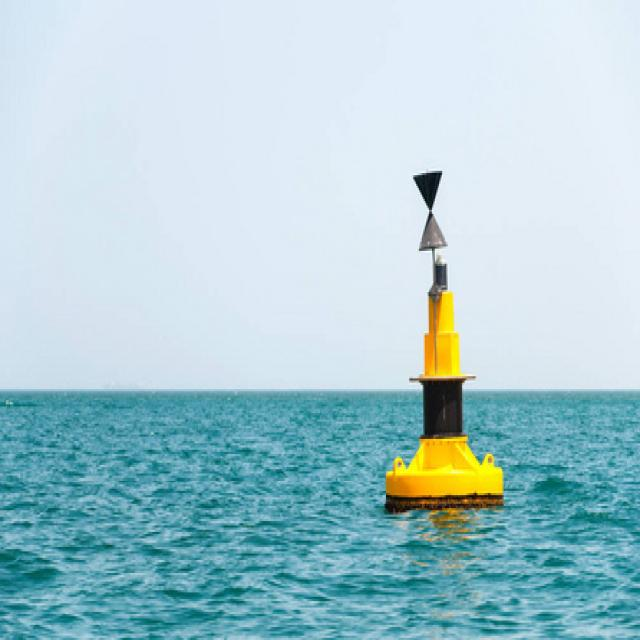buoy: (382, 165, 505, 507)
